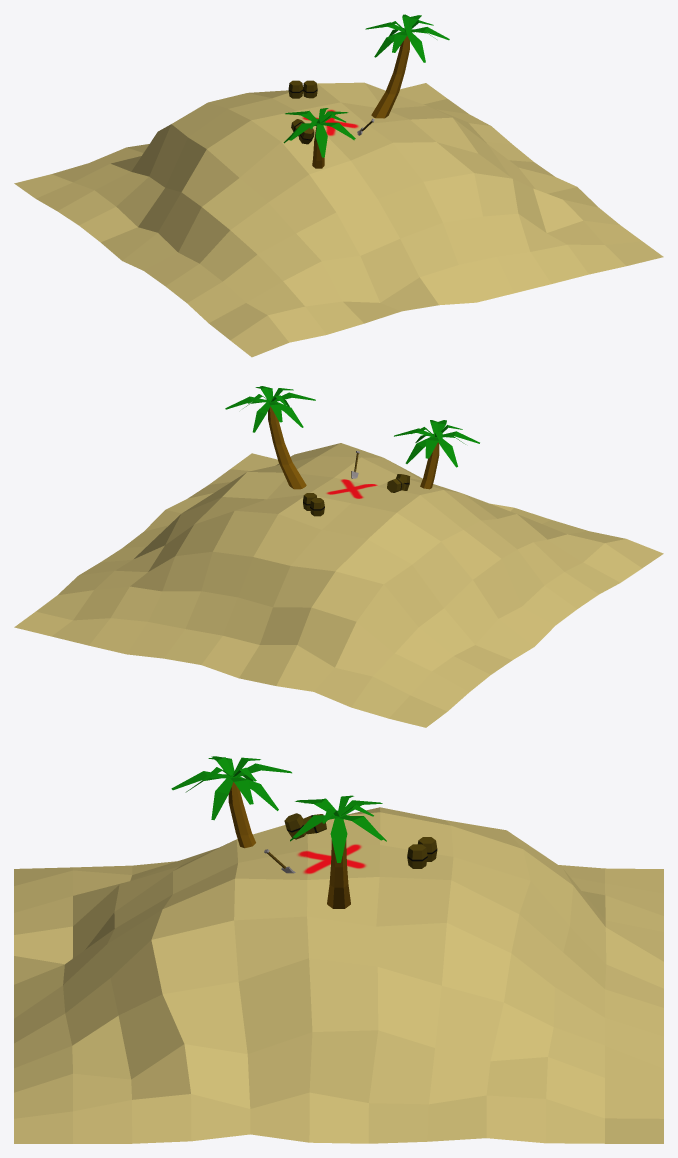
The model's file is KeyIsland.fbx.
3 renders of one model, top to bottom at view 1: azimuth 30°, elevation 25°; view 2: azimuth 150°, elevation 25°; view 3: azimuth 270°, elevation 25°, orthographic. The views are drawn at different scales.
Visible parts, largest first — view 1: Suelo, Hojas, Hojas.001, Tronco; view 2: Suelo, Hojas.001, Hojas, Tronco; view 3: Suelo, Hojas.001, Hojas, Tronco, Tronco.001.
Part boxes in pixels (<box>): Suelo: <box>14,82,663,357</box>; Hojas: <box>365,14,449,62</box>; Hojas.001: <box>283,108,355,157</box>; Tronco: <box>371,36,409,118</box>; Suelo: <box>14,443,663,727</box>; Hojas.001: <box>394,420,479,467</box>; Hojas: <box>225,386,315,432</box>; Tronco: <box>268,406,306,489</box>; Suelo: <box>14,807,663,1143</box>; Hojas.001: <box>171,756,291,820</box>; Hojas: <box>290,795,386,862</box>; Tronco: <box>327,840,350,908</box>; Tronco.001: <box>228,782,255,848</box>.
Size of the model in its own units: 200 by 84.36 by 200.
5 materials, 5 textured.
